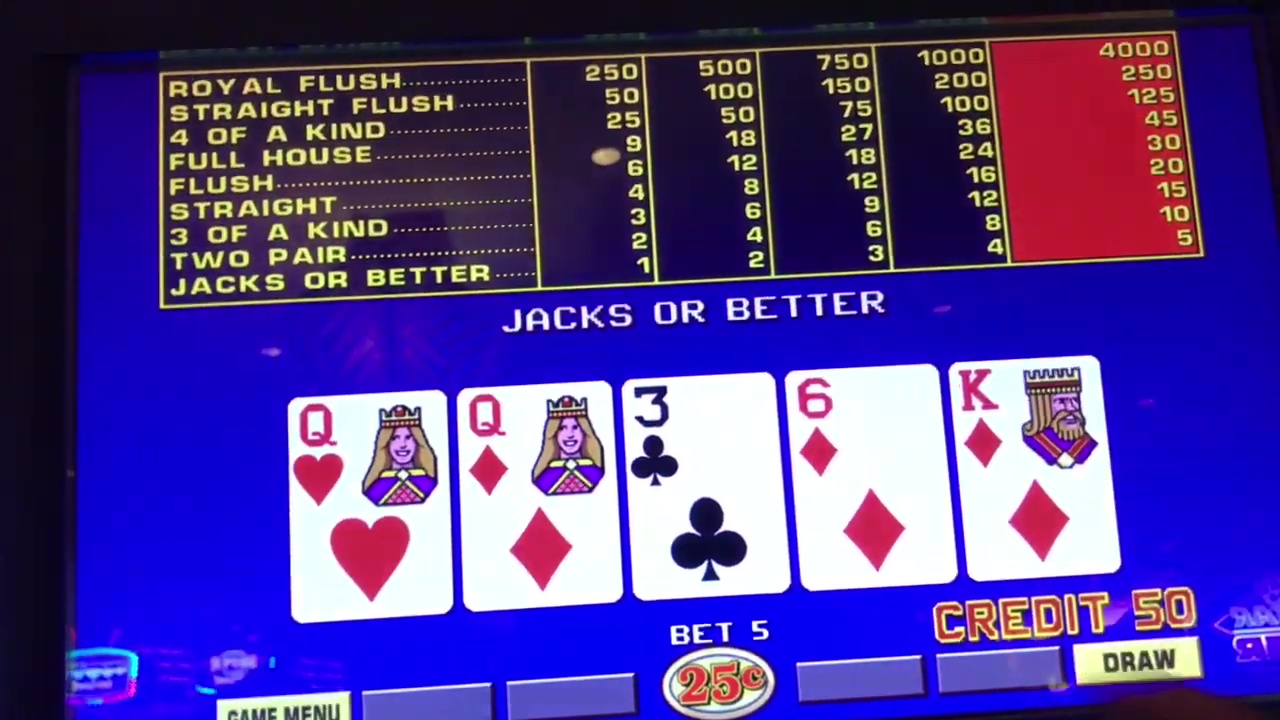C3: (623, 376, 778, 591)
D6: (797, 365, 943, 589)
DK: (958, 359, 1102, 579)
DQ: (460, 385, 618, 605)
HQ: (295, 394, 436, 616)
